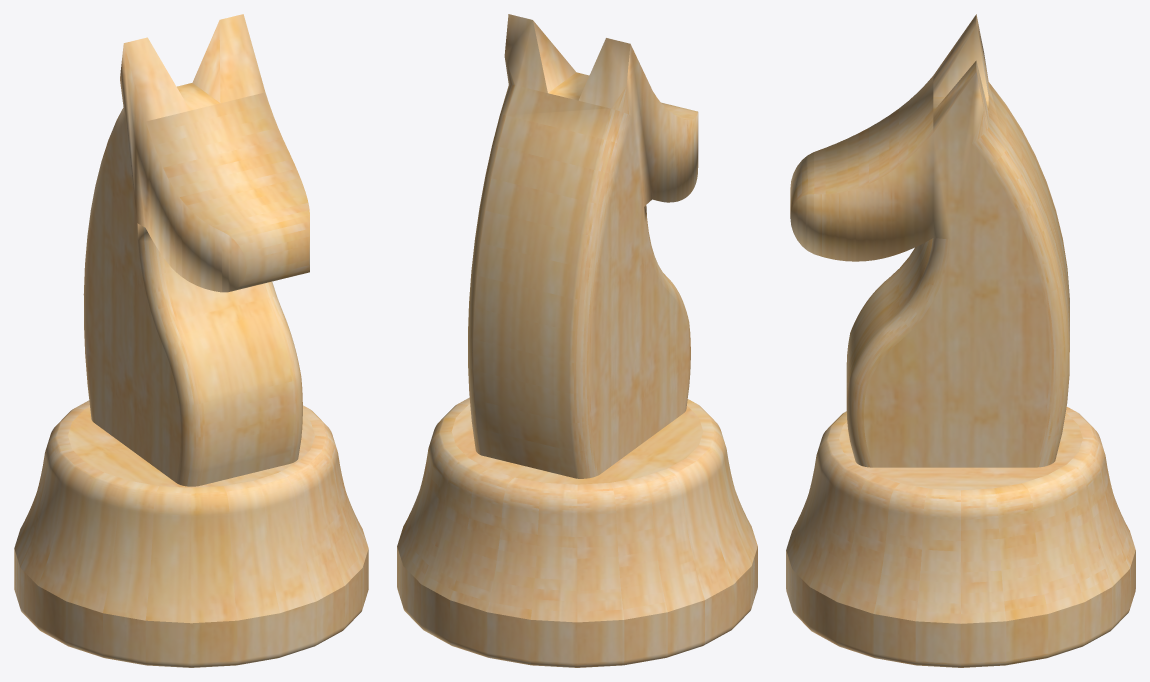
Rendered from Knight_w.dae.
3 renders of one model, left to right at view 1: azimuth 30°, elevation 25°; view 2: azimuth 150°, elevation 25°; view 3: azimuth 270°, elevation 25°, orthographic. The views are drawn at different scales.
Visible parts, largest first — view 1: group_0, group_1; view 2: group_0, group_1; view 3: group_0, group_1.
Boxes of the visible parts, x1,y1,x2,y2 form: group_0: (83,14,309,486); group_1: (14,400,368,667); group_0: (468,14,698,478); group_1: (397,397,757,667); group_0: (790,14,1069,467); group_1: (786,407,1135,667).
Bounding box in the file's own units: 26.91 × 26.91 × 46.91.
1 material, 1 textured.
